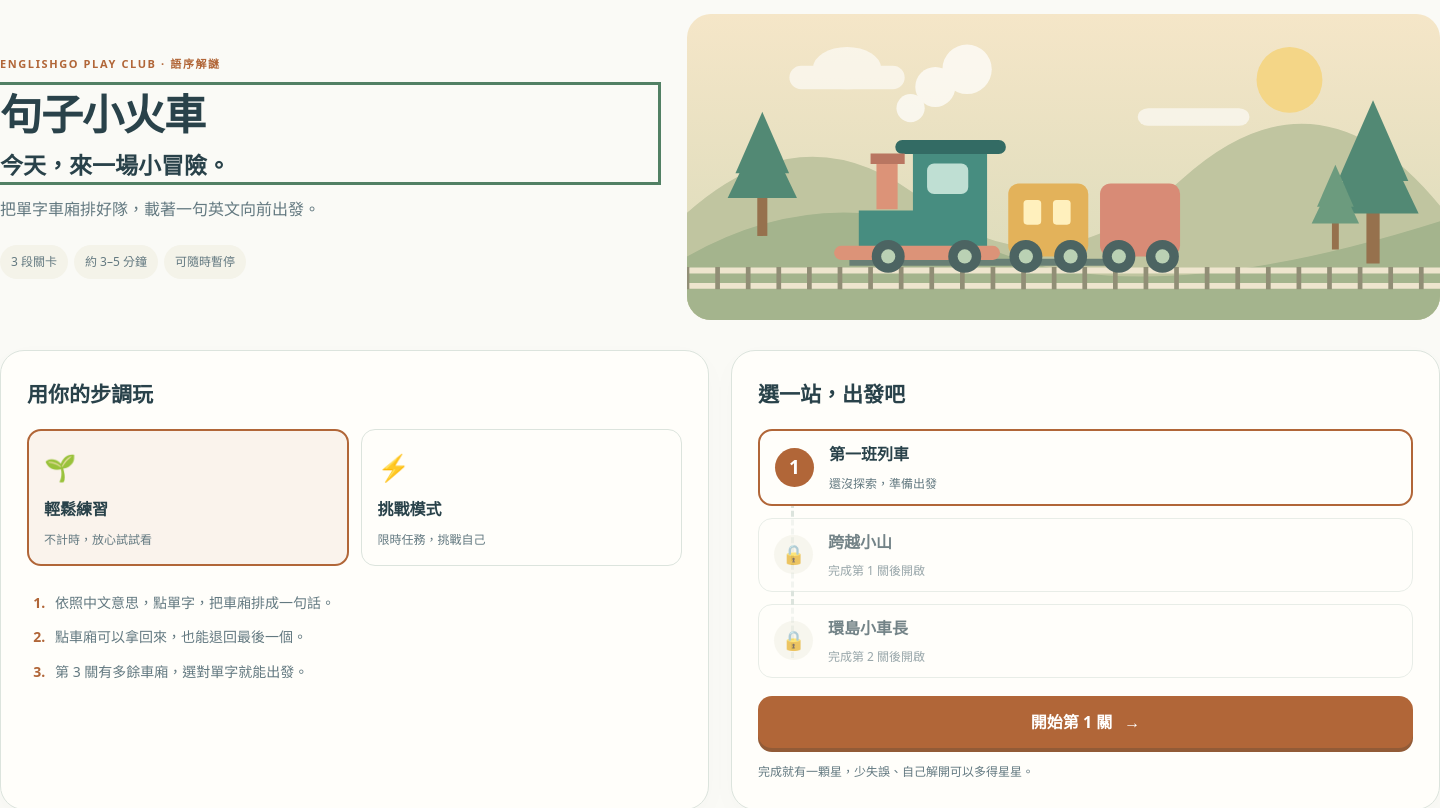
Test: illustrated arcade play flow › lets children return a train carriage and rebuild without duplicate tiles
(page scrolled)
Click the button "開始第 1 關 →".
click(1086, 722)  # box top-left (758, 696), bottom-right (1413, 748)
(page scrolled)
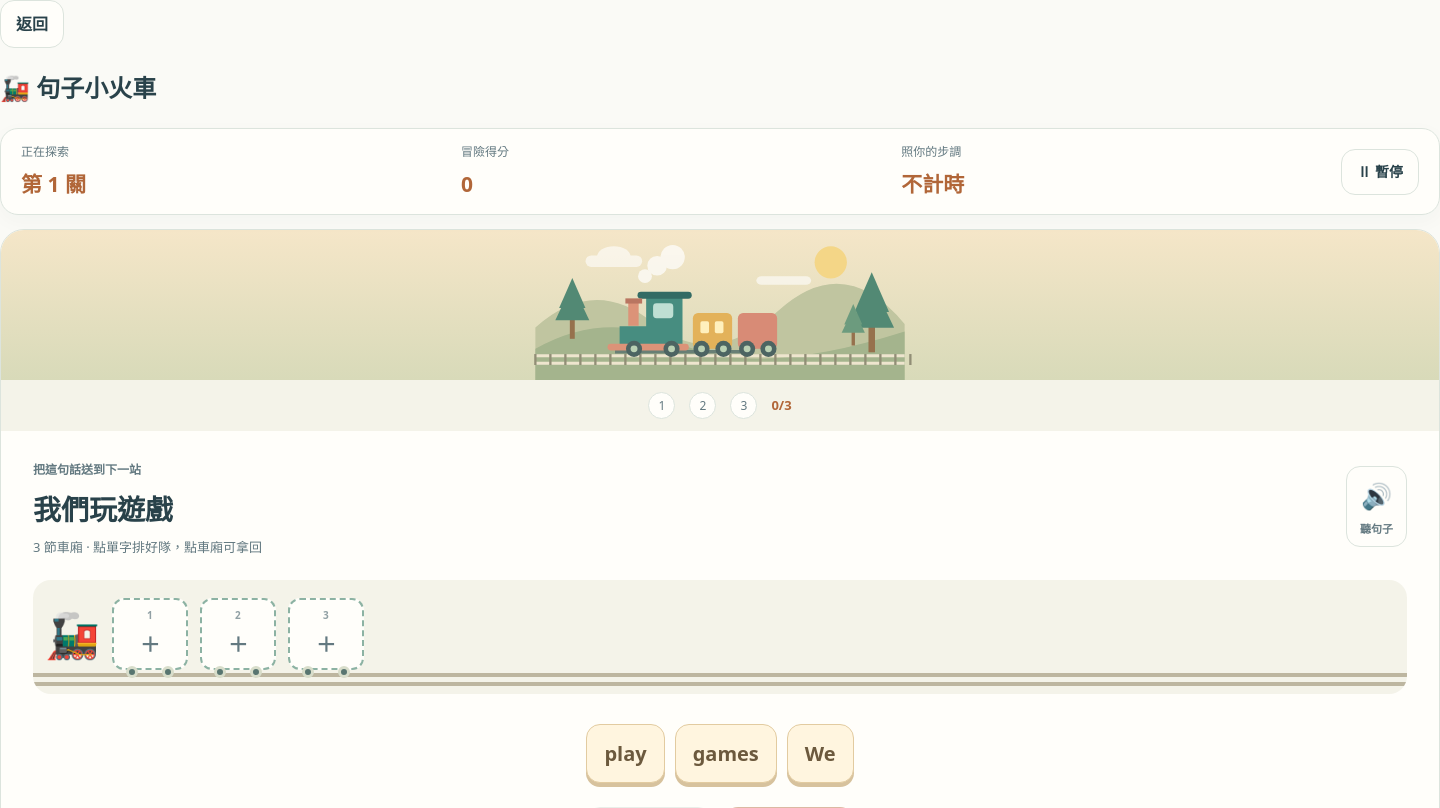
Click the button "play".
click(626, 754)  # box top-left (586, 724), bottom-right (665, 783)
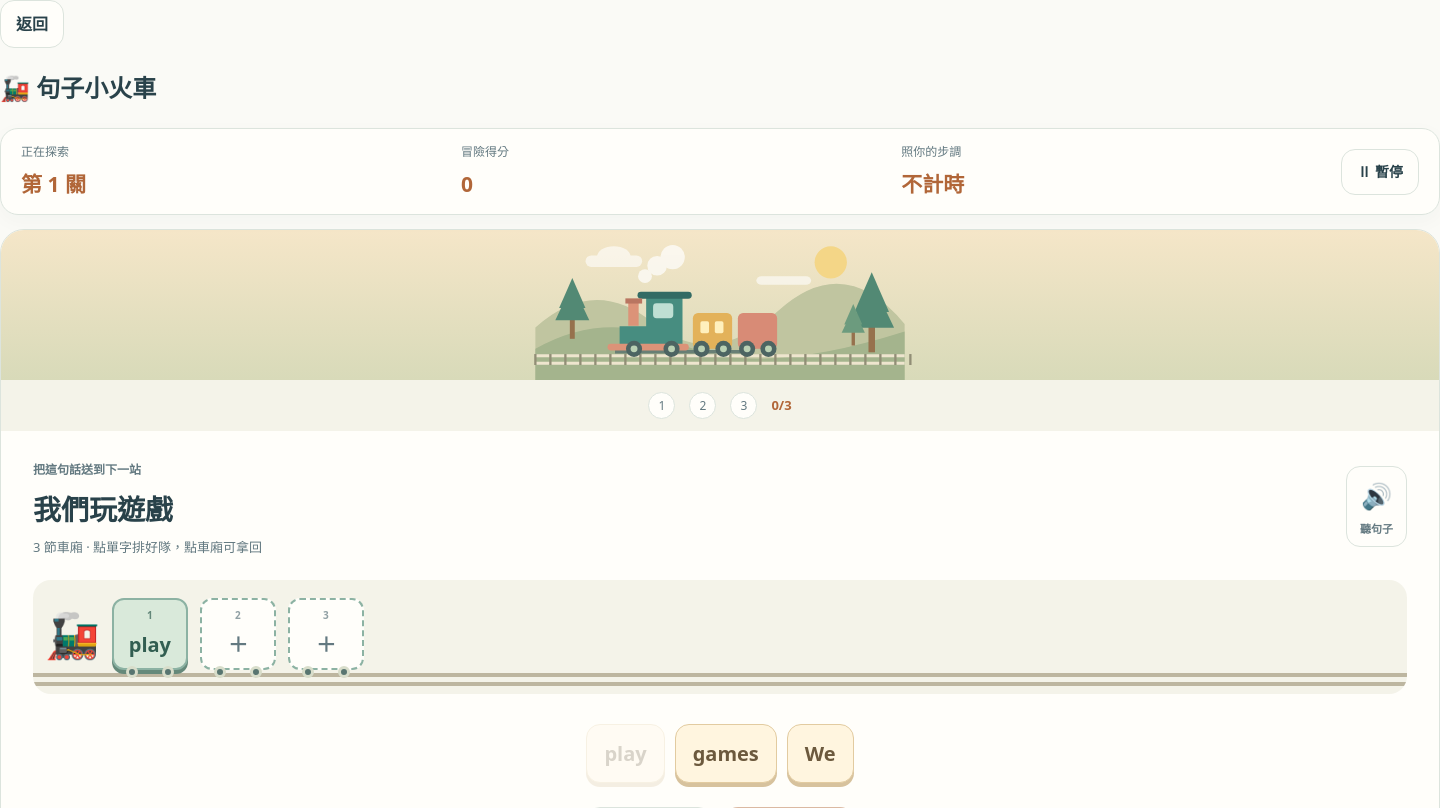
Result: the button "play" is disabled at top-left (586, 724), bottom-right (665, 783)
Click the button "1 play".
click(150, 634)  # box top-left (112, 598), bottom-right (188, 670)
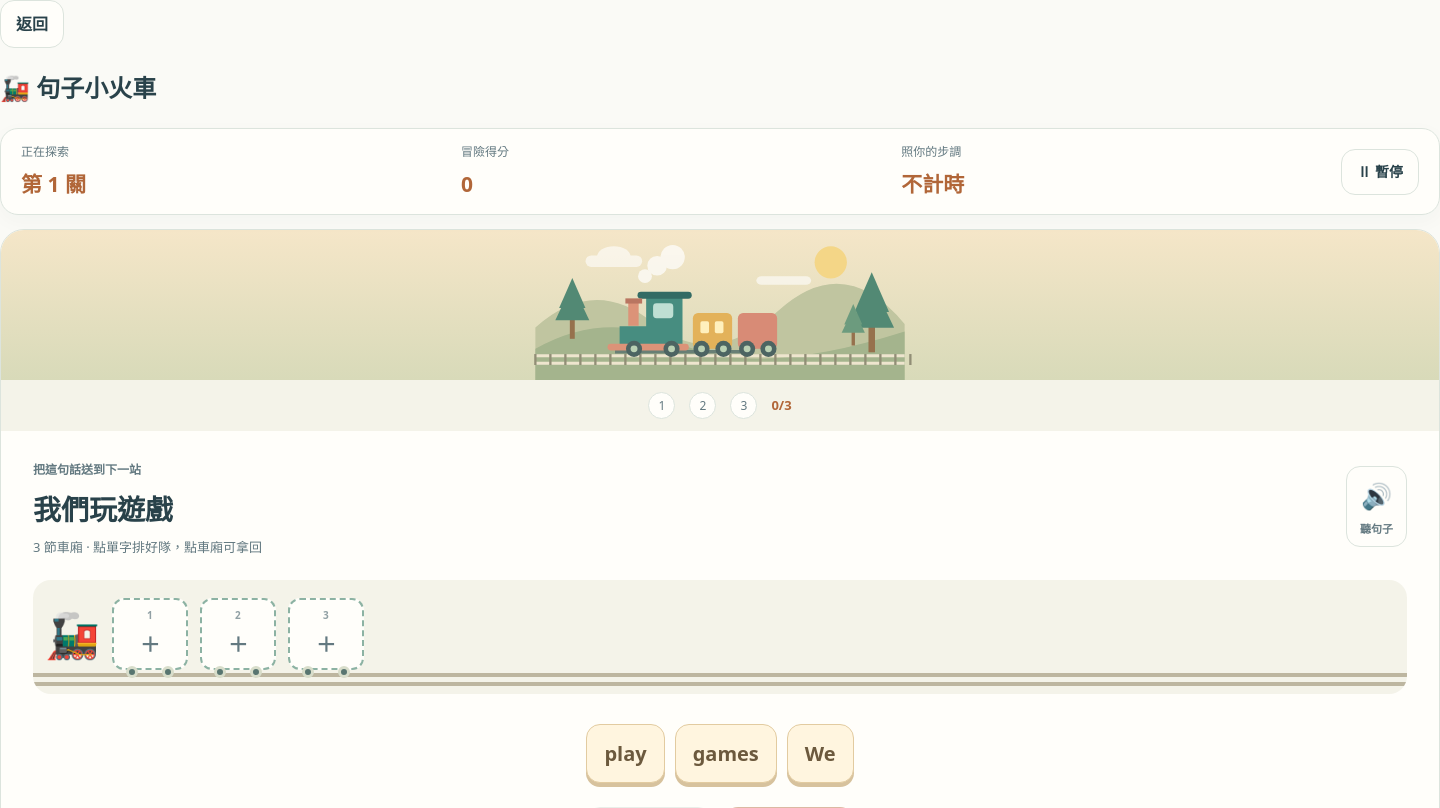
Result: the button "play" is enabled at top-left (586, 724), bottom-right (665, 783)
